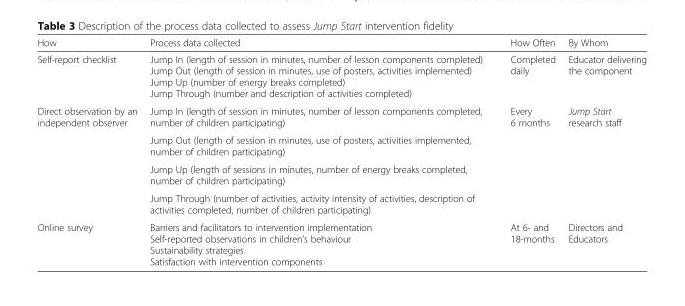table: (36, 36, 646, 266)
table column: (142, 36, 495, 266), (36, 36, 142, 266), (561, 36, 646, 266), (495, 36, 561, 266)
table column header: (36, 36, 646, 50)
table row: (36, 50, 646, 101), (36, 218, 646, 266), (36, 159, 646, 189), (36, 101, 646, 130), (36, 130, 646, 159), (36, 189, 646, 218), (36, 36, 646, 50)
table spanning cell: (36, 101, 142, 218)
